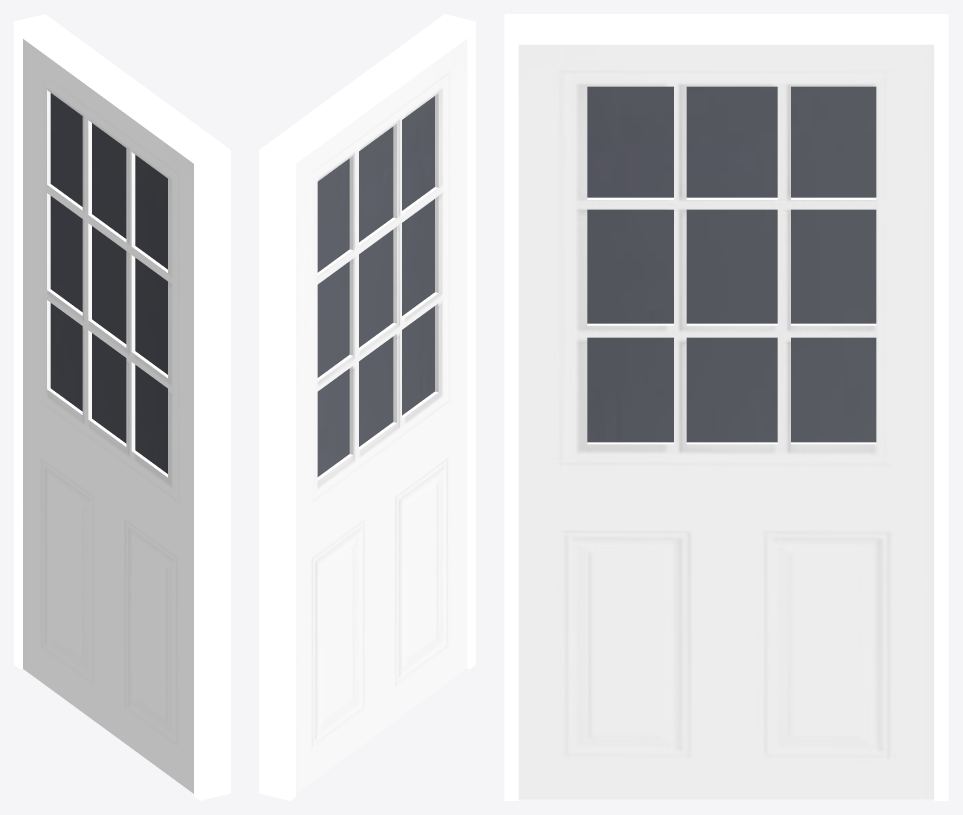
The model's file is 9_lite_walkin.9ef1002a.gltf.
The picture shows the model from 3 angles, left to right: view 1: azimuth 30°, elevation 25°; view 2: azimuth 150°, elevation 25°; view 3: azimuth 270°, elevation 25°; orthographic projection. The views are drawn at different scales.
Parts seen in each view (by area): view 1: door, trims, Glass; view 2: door, trims, Glass; view 3: door, Glass, trims.
Boxes of the visible parts, x1,y1,x2,y2 form: door: (23,39,193,793); trims: (14,14,230,800); Glass: (50,93,167,473); door: (296,39,467,793); trims: (259,14,475,800); Glass: (317,96,434,476); door: (518,44,933,799); Glass: (587,86,876,442); trims: (504,14,948,800).
Bounding box in the file's own units: 0.302 × 6.01 × 3.14.
3 materials, 2 textured.
